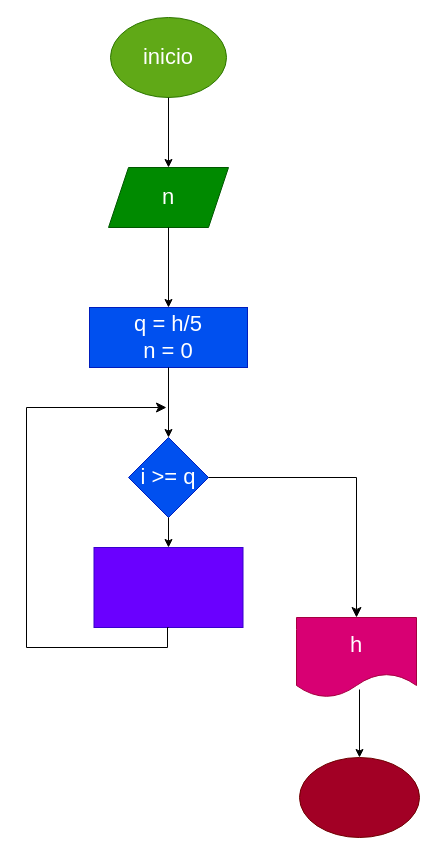
This 437x855 diagram has some shape labels left out. The shapes that lost their labels are listed below. From the top down, each one's box as (x1, y1, x2, y2) in pixels, then its label:
(93, 546, 243, 628): h = 0.9 * h i = i + 1
(298, 756, 420, 838): fin
